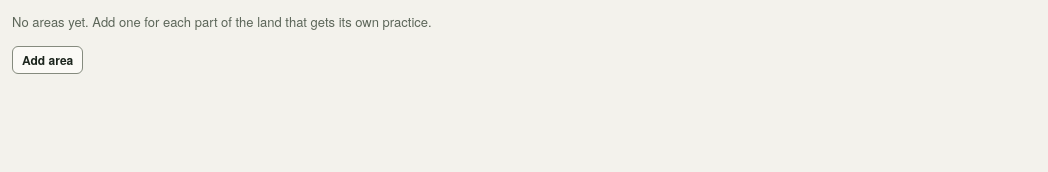
Test: AreasTable › builds an area from the row's controls
Click the button "Add area" at x=48, y=60, box [12,46,83,74]
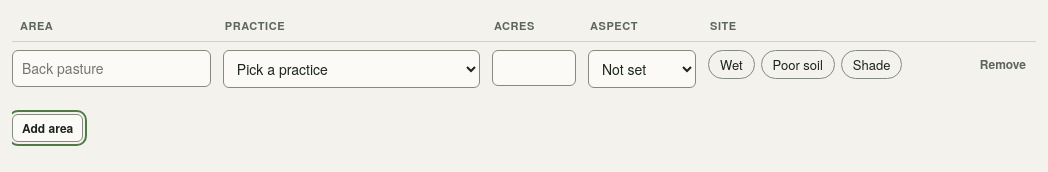
Type "Creek edge" into the field named "Area 1 name" at x=111, y=68, box [12,50,211,86]
Select "Riparian buffer" in the dropdown named "Area 1 practice" at x=351, y=68, box [223,50,480,88]
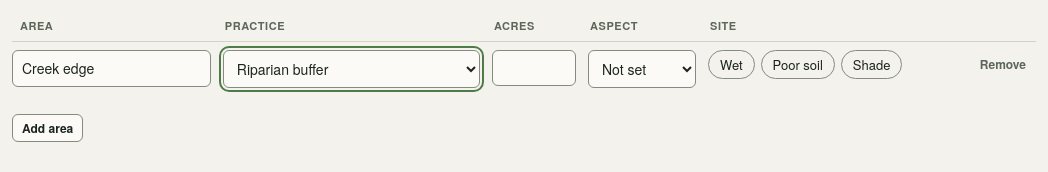
Type "1.5" into the number field named "Area 1 acres" at x=534, y=68, box [492,50,576,86]
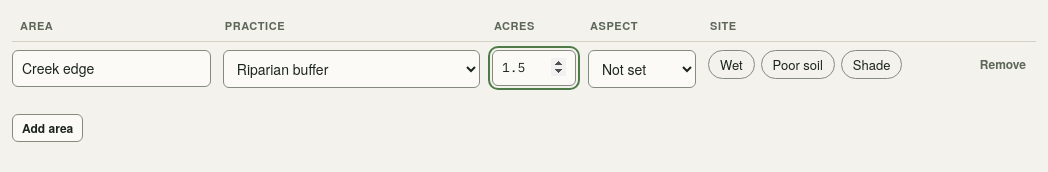
Click the button "Wet" at x=731, y=64, box [708,50,755,79]
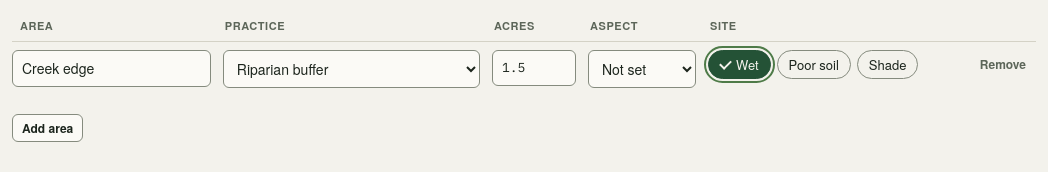
Click the button "Shade" at x=888, y=64, box [857,50,918,79]
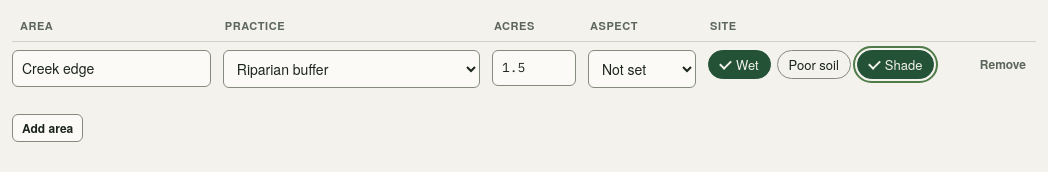
Select "Flat" in the dropdown named "Area 1 aspect" at x=642, y=68, box [588,50,696,88]
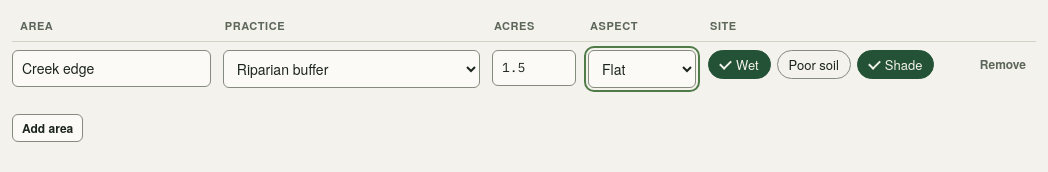
Expected: the button "Wet" is pressed, [708,50,771,79]
